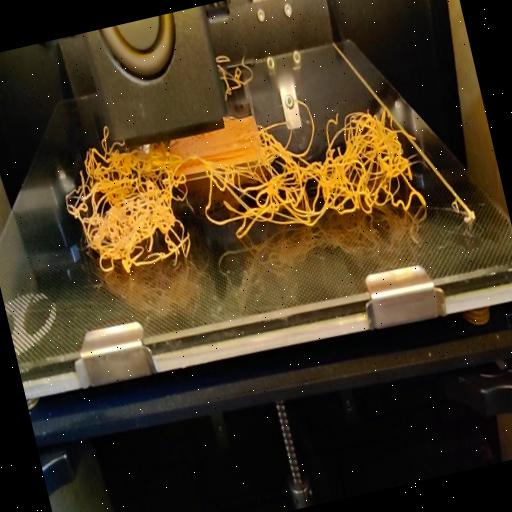spaghetti: (57, 76, 433, 292), (212, 46, 255, 100), (99, 120, 113, 142)
